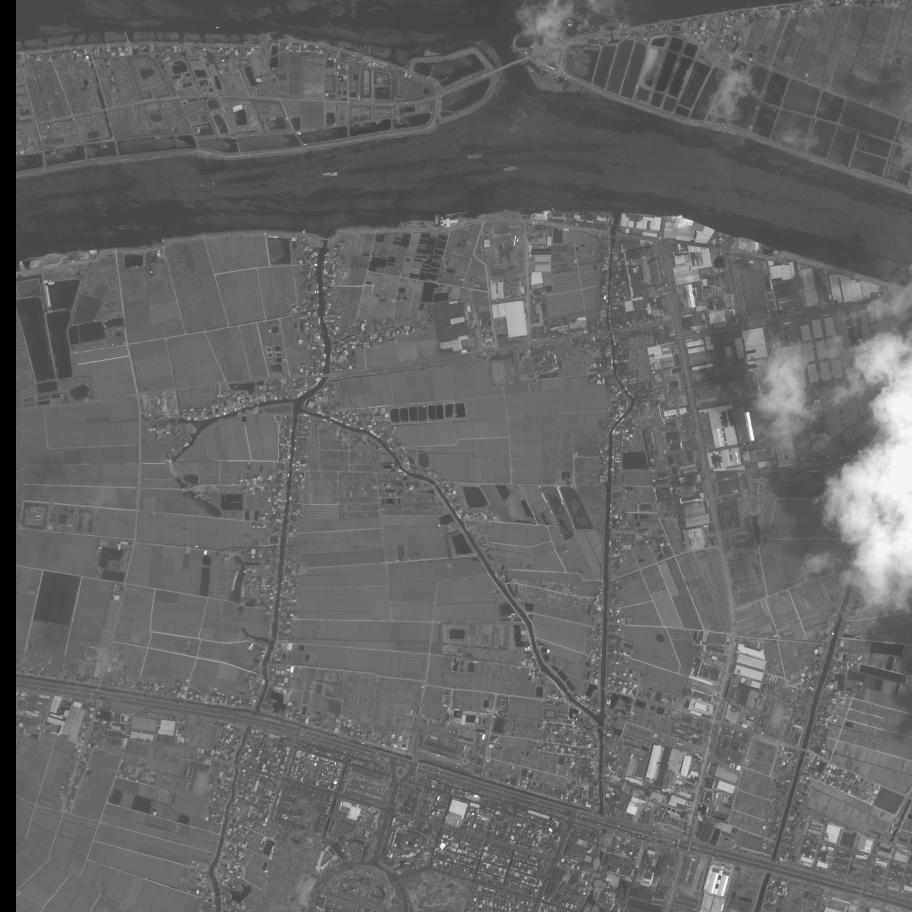ship: (503, 165, 518, 174), (467, 153, 483, 160), (119, 225, 141, 230), (322, 172, 339, 178), (199, 181, 216, 187), (212, 25, 220, 30), (565, 19, 571, 22), (567, 23, 572, 26), (568, 25, 572, 27)
storage-tank: (630, 215, 636, 221), (583, 221, 588, 227), (600, 224, 605, 230), (636, 216, 641, 222), (588, 223, 593, 228), (572, 220, 577, 225), (566, 219, 571, 224), (595, 223, 599, 229), (578, 221, 582, 226)
